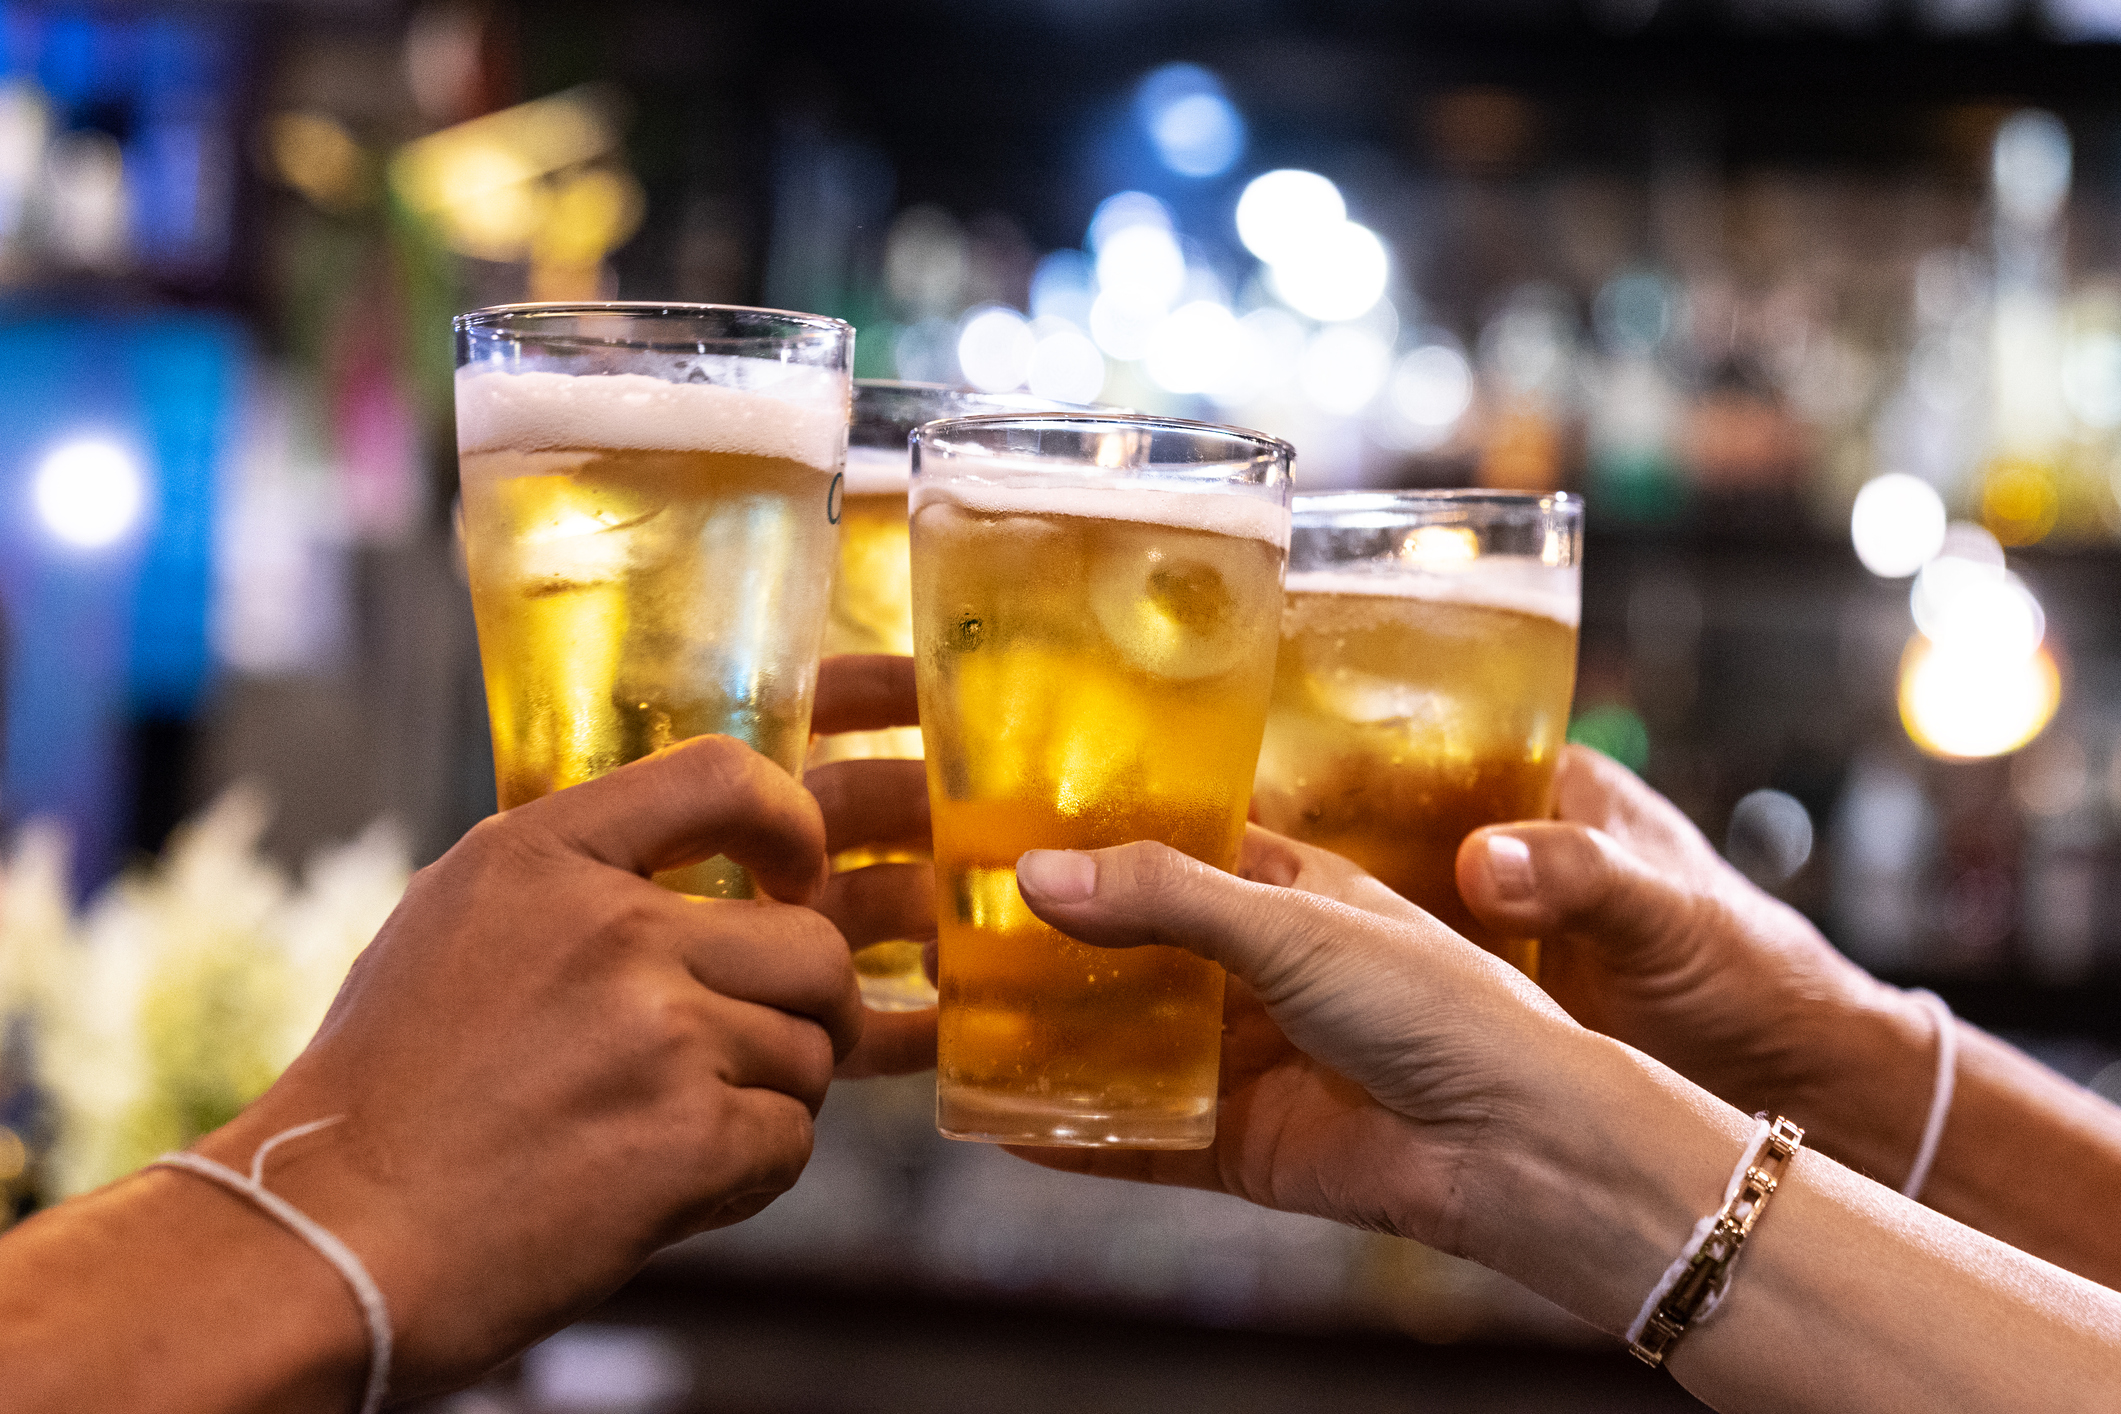Glass: (426, 294, 885, 1053), (911, 407, 1270, 1179), (1281, 467, 1558, 1029)
